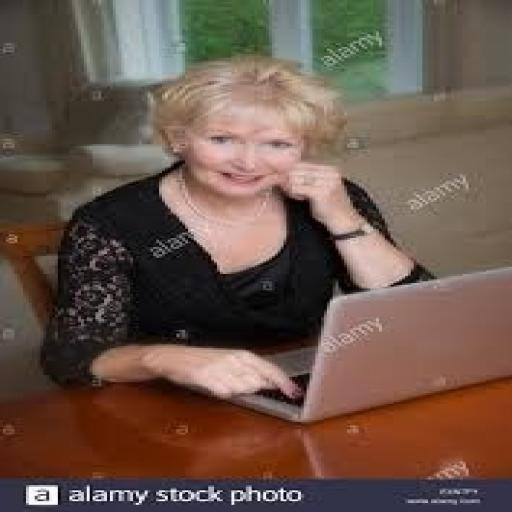using_laptop: (214, 261, 509, 424)
